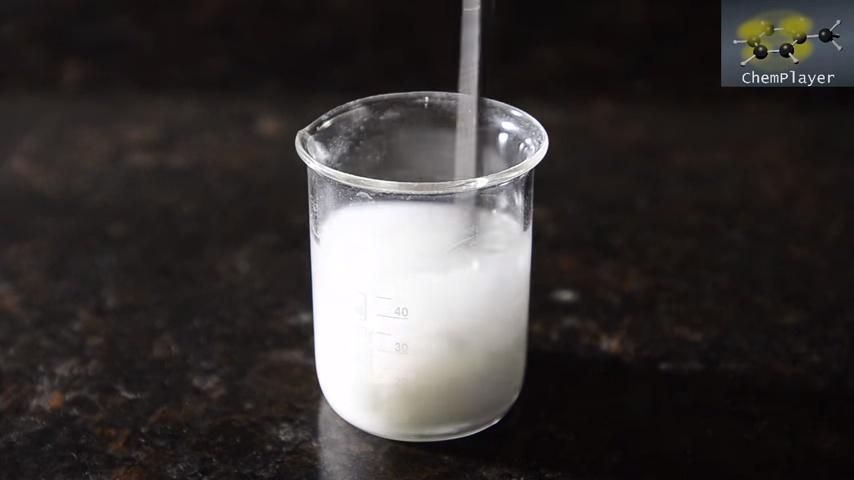Beaker: (291, 57, 551, 446)
